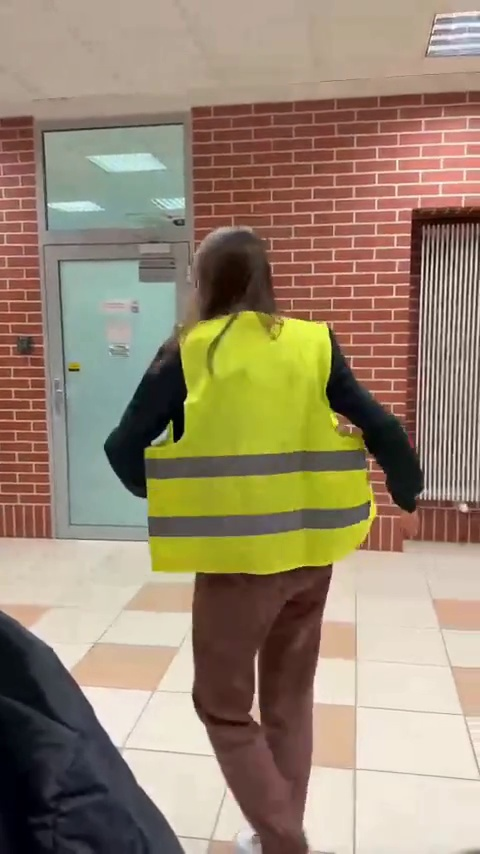vest: (112, 225, 443, 849)
